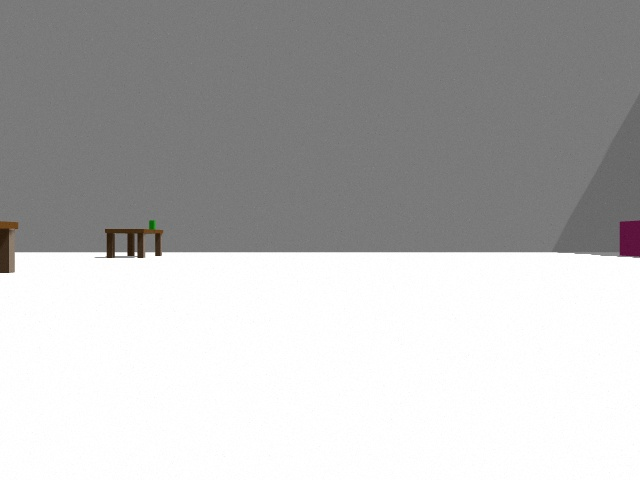green_cube: (149, 220, 155, 229)
red_drop_zone: (620, 221, 640, 257)
